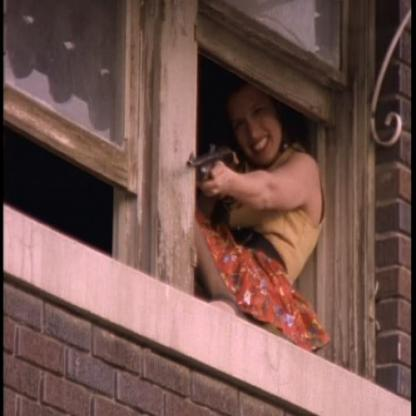Gun: (184, 138, 238, 188)
